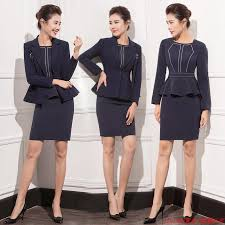F_tailored skirt: (155, 86, 207, 144), (26, 89, 77, 145), (93, 88, 141, 139)
